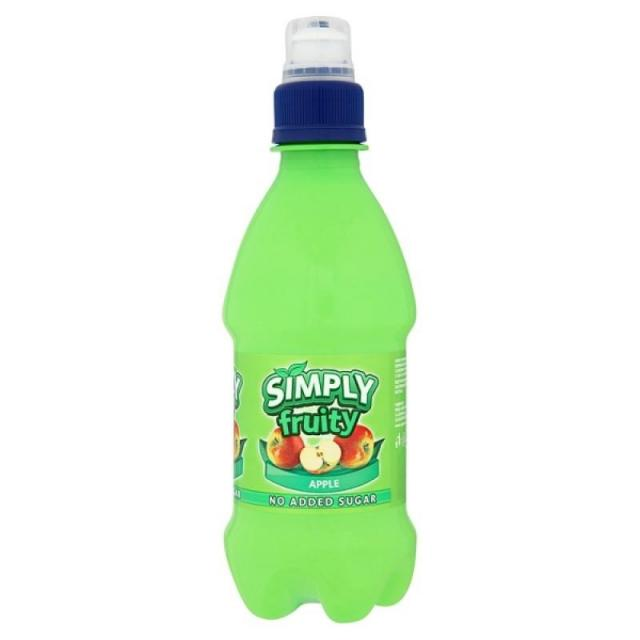plastic_bottle: (221, 16, 428, 621)
